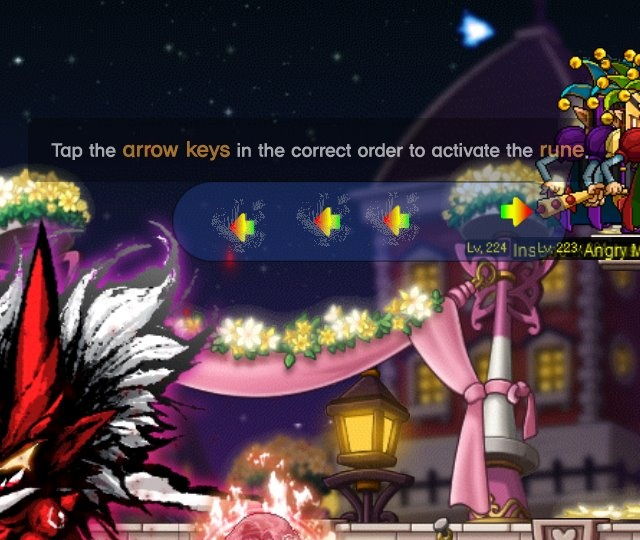rune_box: (157, 169, 581, 272)
